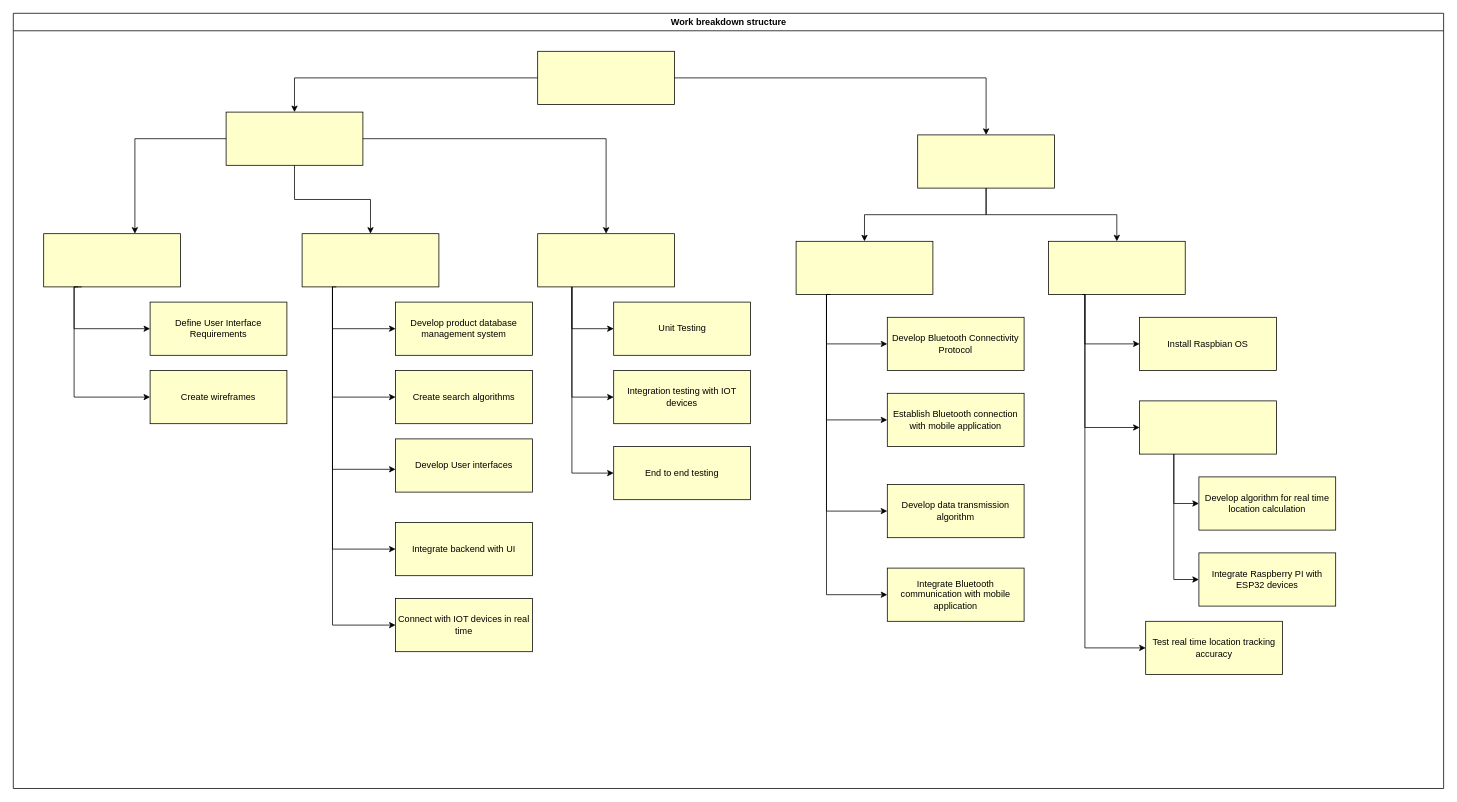
Image size: 1457x802. Some labels were removed from this diagram. Here are the shapes that lost their labels. From the top down, the centre of each, then its label:
(x=605, y=77): ShopForMe
(x=294, y=138): Mobile application
(x=985, y=161): IOT devices
(x=111, y=260): Design phase
(x=370, y=260): Development phase
(x=605, y=260): Testing phase
(x=864, y=267): ESP32
(x=1116, y=267): Raspberry PI
(x=1207, y=427): Development
